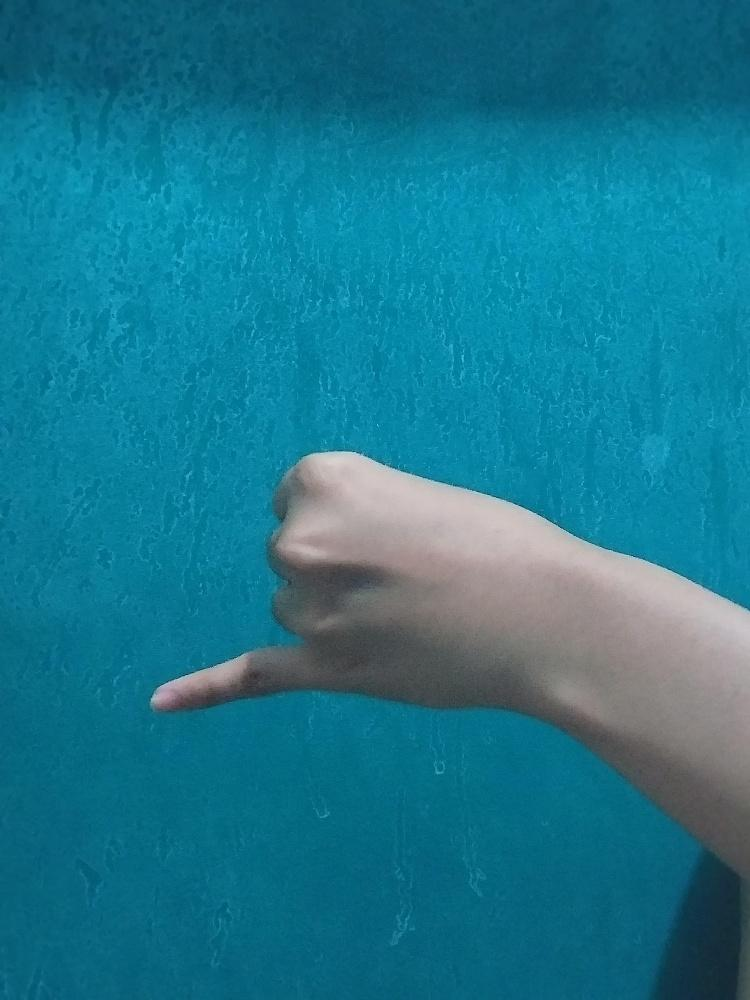j: (149, 441, 546, 715)
